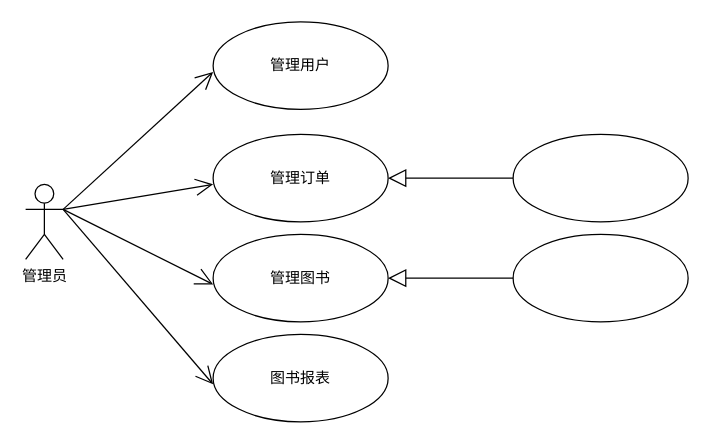
The diagram is 710 pixels wide and 444 high, and some of its shapes have lost their labels. Each missing label, with the centre of its shape:
库存管理: [600,277]
配送中心: [600,177]
